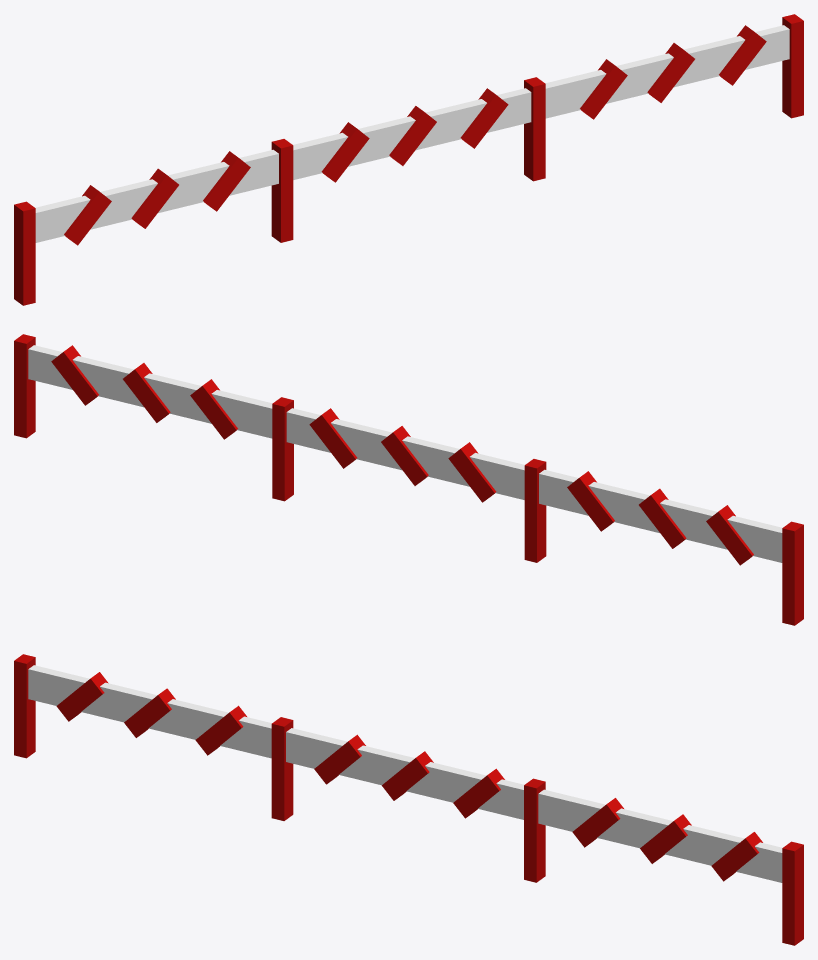
The model's file is jumpfence.obj.
3 renders of one model, top to bottom at view 1: azimuth 30°, elevation 25°; view 2: azimuth 150°, elevation 25°; view 3: azimuth 330°, elevation 25°, orthographic.
Parts seen in each view (by area): view 1: Cube.009_Cube.002, Cube.009_Cube.003, Cube.009_Cube.001, Cube_Cube.001, Cube_Cube.008, Cube.008_Cube.002, Cube.008_Cube.001, Cube.011_Cube.002, Cube.011_Cube.003, Cube.010_Cube.002, Cube.010_Cube.003, Cube.011_Cube.001 (+4 smaller); view 2: Cube.009_Cube.002, Cube.009_Cube.003, Cube.009_Cube.001, Cube_Cube.001, Cube_Cube.008, Cube.008_Cube.002, Cube.008_Cube.001, Cube.011_Cube.002, Cube.011_Cube.003, Cube.010_Cube.002, Cube.010_Cube.003, Cube.011_Cube.001 (+4 smaller); view 3: Cube.009_Cube.002, Cube.009_Cube.003, Cube.009_Cube.001, Cube.008_Cube.002, Cube_Cube.008, Cube_Cube.001, Cube.008_Cube.001, Cube.011_Cube.001, Cube.012_Cube.002, Cube.010_Cube.002, Cube.012_Cube.003, Cube.011_Cube.003 (+4 smaller).
Boxes of the visible parts, x1,y1,x2,y2 form: Cube.009_Cube.002: (545,25,789,118); Cube.009_Cube.003: (35,149,278,242); Cube.009_Cube.001: (293,88,531,179); Cube_Cube.001: (14,201,35,305); Cube_Cube.008: (271,139,293,242); Cube.008_Cube.002: (782,14,803,118); Cube.008_Cube.001: (524,77,545,181); Cube.011_Cube.002: (580,59,627,119); Cube.011_Cube.003: (64,185,111,245); Cube.010_Cube.002: (647,43,694,102); Cube.010_Cube.003: (131,168,178,228); Cube.011_Cube.001: (321,122,369,182); Cube.009_Cube.002: (28,345,272,438); Cube.009_Cube.003: (539,469,782,562); Cube.009_Cube.001: (286,408,524,499); Cube_Cube.001: (782,521,803,625); Cube_Cube.008: (524,459,546,562); Cube.008_Cube.002: (14,334,35,438); Cube.008_Cube.001: (272,397,293,501); Cube.011_Cube.002: (190,379,237,439); Cube.011_Cube.003: (706,505,753,565); Cube.010_Cube.002: (123,363,170,422); Cube.010_Cube.003: (639,488,686,548); Cube.011_Cube.001: (448,442,496,502); Cube.009_Cube.002: (538,789,782,882); Cube.009_Cube.003: (28,665,271,758); Cube.009_Cube.001: (286,728,524,819); Cube.008_Cube.002: (782,841,803,945); Cube_Cube.008: (271,717,293,820); Cube_Cube.001: (14,654,35,758); Cube.008_Cube.001: (524,778,545,882); Cube.011_Cube.001: (314,734,365,784); Cube.012_Cube.002: (711,832,762,881); Cube.010_Cube.002: (640,814,691,863); Cube.012_Cube.003: (195,705,246,755); Cube.011_Cube.003: (56,672,108,721).
Bounding box in the file's own units: 18.29 × 2.14 × 0.3729.
